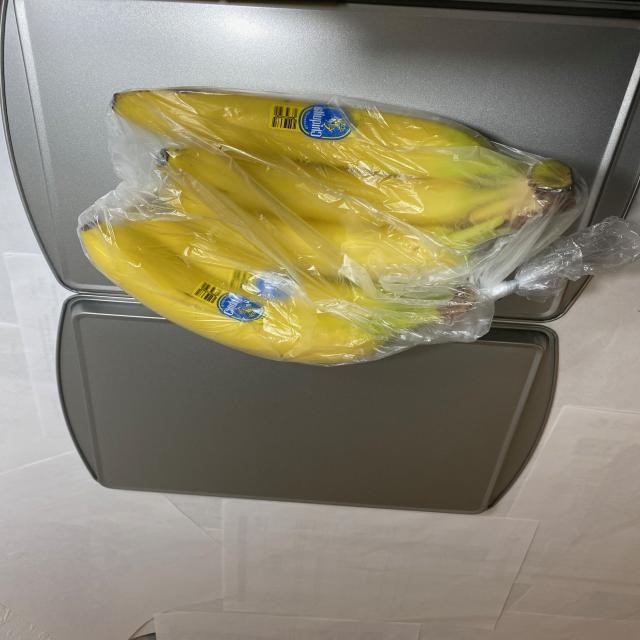banana: (80, 80, 588, 366)
